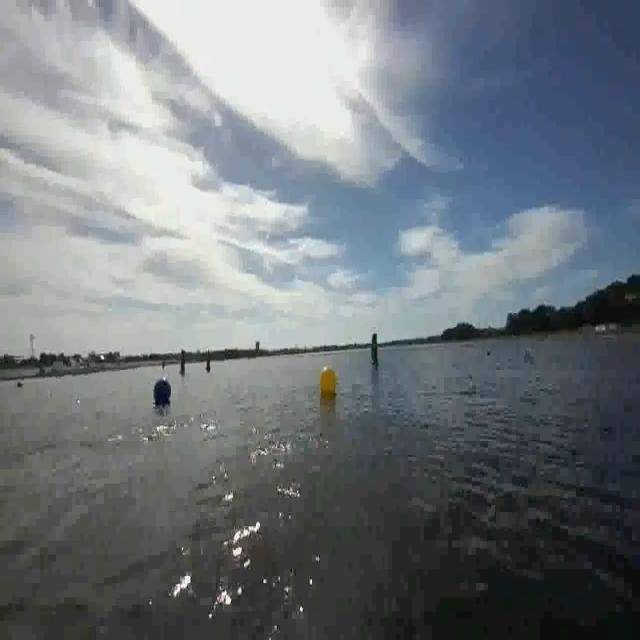blue-buoy: (153, 376, 170, 402)
yellow-buoy: (322, 364, 341, 394)
